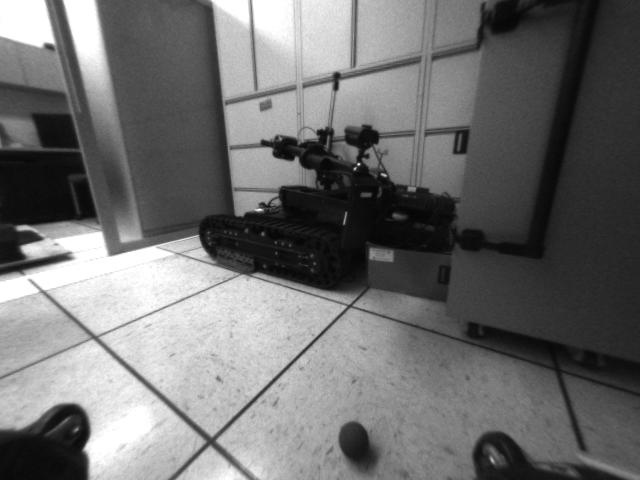dogtoy: (334, 417, 378, 465)
